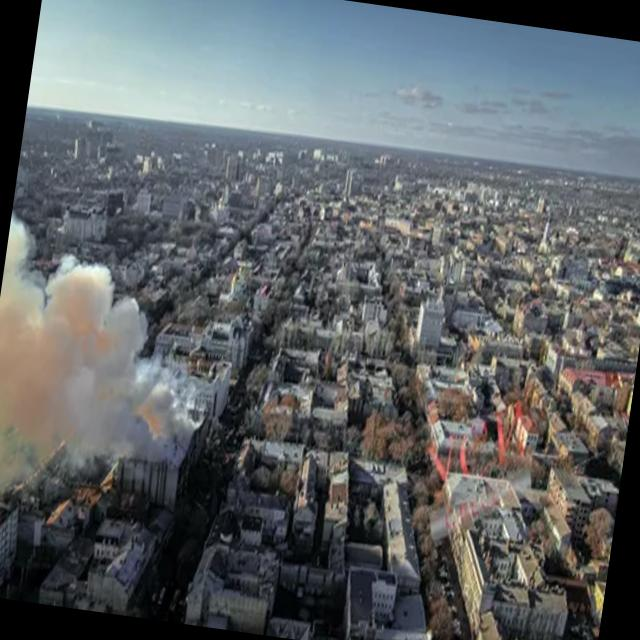Smoke: (0, 216, 217, 473)
